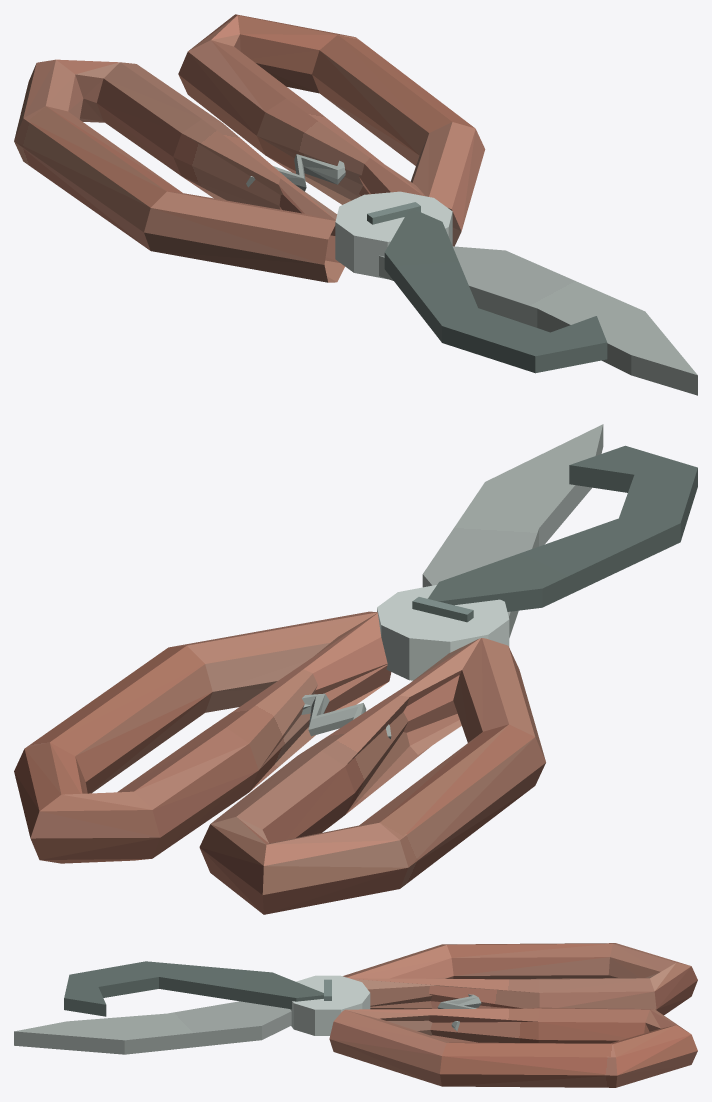
File: pruning-shears.glb
3 views of the same model, one above another, from view 1: azimuth 30°, elevation 25°; view 2: azimuth 150°, elevation 25°; view 3: azimuth 270°, elevation 25° (orthographic). The views are drawn at different scales.
Parts seen in each view (by area): view 1: pruning-shears/loop-grip--1, pruning-shears/loop-grip-1, pruning-shears/hooked-anvil-blade, pruning-shears/curved-cutting-blade, pruning-shears/pivot-bolt, pruning-shears/return-spring, pruning-shears/pivot-slot; view 2: pruning-shears/loop-grip-1, pruning-shears/loop-grip--1, pruning-shears/hooked-anvil-blade, pruning-shears/curved-cutting-blade, pruning-shears/pivot-bolt, pruning-shears/return-spring, pruning-shears/pivot-slot; view 3: pruning-shears/loop-grip-1, pruning-shears/loop-grip--1, pruning-shears/curved-cutting-blade, pruning-shears/hooked-anvil-blade, pruning-shears/pivot-bolt, pruning-shears/return-spring.
Part boxes in pixels (left/top/right/bottom): pruning-shears/loop-grip--1: left=14, top=59, right=344, bottom=282; pruning-shears/loop-grip-1: left=178, top=14, right=485, bottom=246; pruning-shears/hooked-anvil-blade: left=384, top=209, right=607, bottom=373; pruning-shears/curved-cutting-blade: left=379, top=246, right=697, bottom=395; pruning-shears/pivot-bolt: left=335, top=191, right=452, bottom=279; pruning-shears/return-spring: left=246, top=154, right=345, bottom=191; pruning-shears/pivot-slot: left=367, top=202, right=420, bottom=224; pruning-shears/loop-grip-1: left=14, top=611, right=391, bottom=863; pruning-shears/loop-grip--1: left=199, top=638, right=545, bottom=914; pruning-shears/hooked-anvil-blade: left=428, top=445, right=697, bottom=611; pruning-shears/curved-cutting-blade: left=422, top=424, right=603, bottom=637; pruning-shears/pivot-bolt: left=377, top=585, right=509, bottom=680; pruning-shears/return-spring: left=301, top=693, right=391, bottom=738; pruning-shears/pivot-slot: left=412, top=597, right=473, bottom=622; pruning-shears/loop-grip-1: left=329, top=1007, right=697, bottom=1087; pruning-shears/loop-grip--1: left=343, top=943, right=697, bottom=1014; pruning-shears/curved-cutting-blade: left=14, top=1001, right=291, bottom=1054; pruning-shears/hooked-anvil-blade: left=64, top=961, right=323, bottom=1016; pruning-shears/pivot-bolt: left=290, top=975, right=370, bottom=1035; pruning-shears/return-spring: left=437, top=994, right=481, bottom=1031.
Size of the model in its own units: 0.1077 by 0.0205 by 0.2592.
3 materials, 3 textured.
